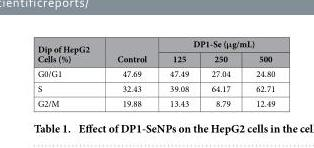table: (36, 37, 274, 109)
table column: (36, 37, 102, 109), (102, 37, 157, 109), (199, 37, 242, 109), (157, 37, 199, 109), (242, 37, 274, 109)
table column header: (36, 37, 274, 65)
table row: (36, 50, 274, 65), (36, 65, 274, 80), (36, 80, 274, 95), (36, 95, 274, 109), (36, 37, 274, 50)
table spanning cell: (36, 37, 102, 65), (102, 37, 157, 65), (157, 37, 274, 50)
